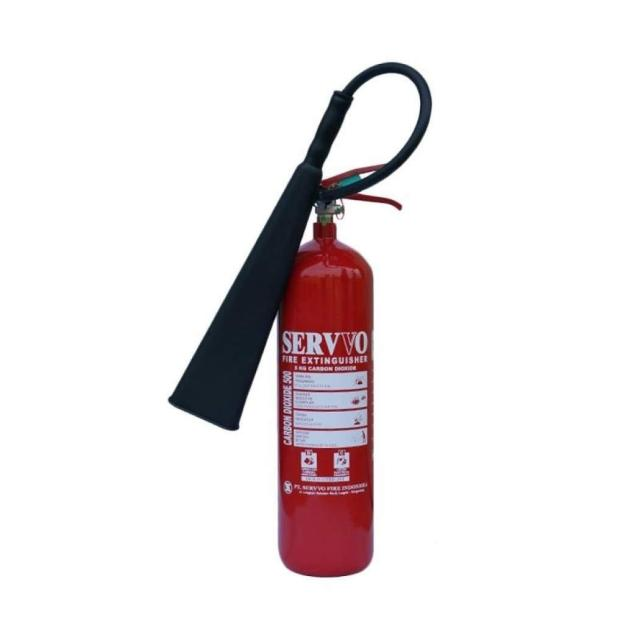fire_extinguisher: (161, 56, 437, 582)
